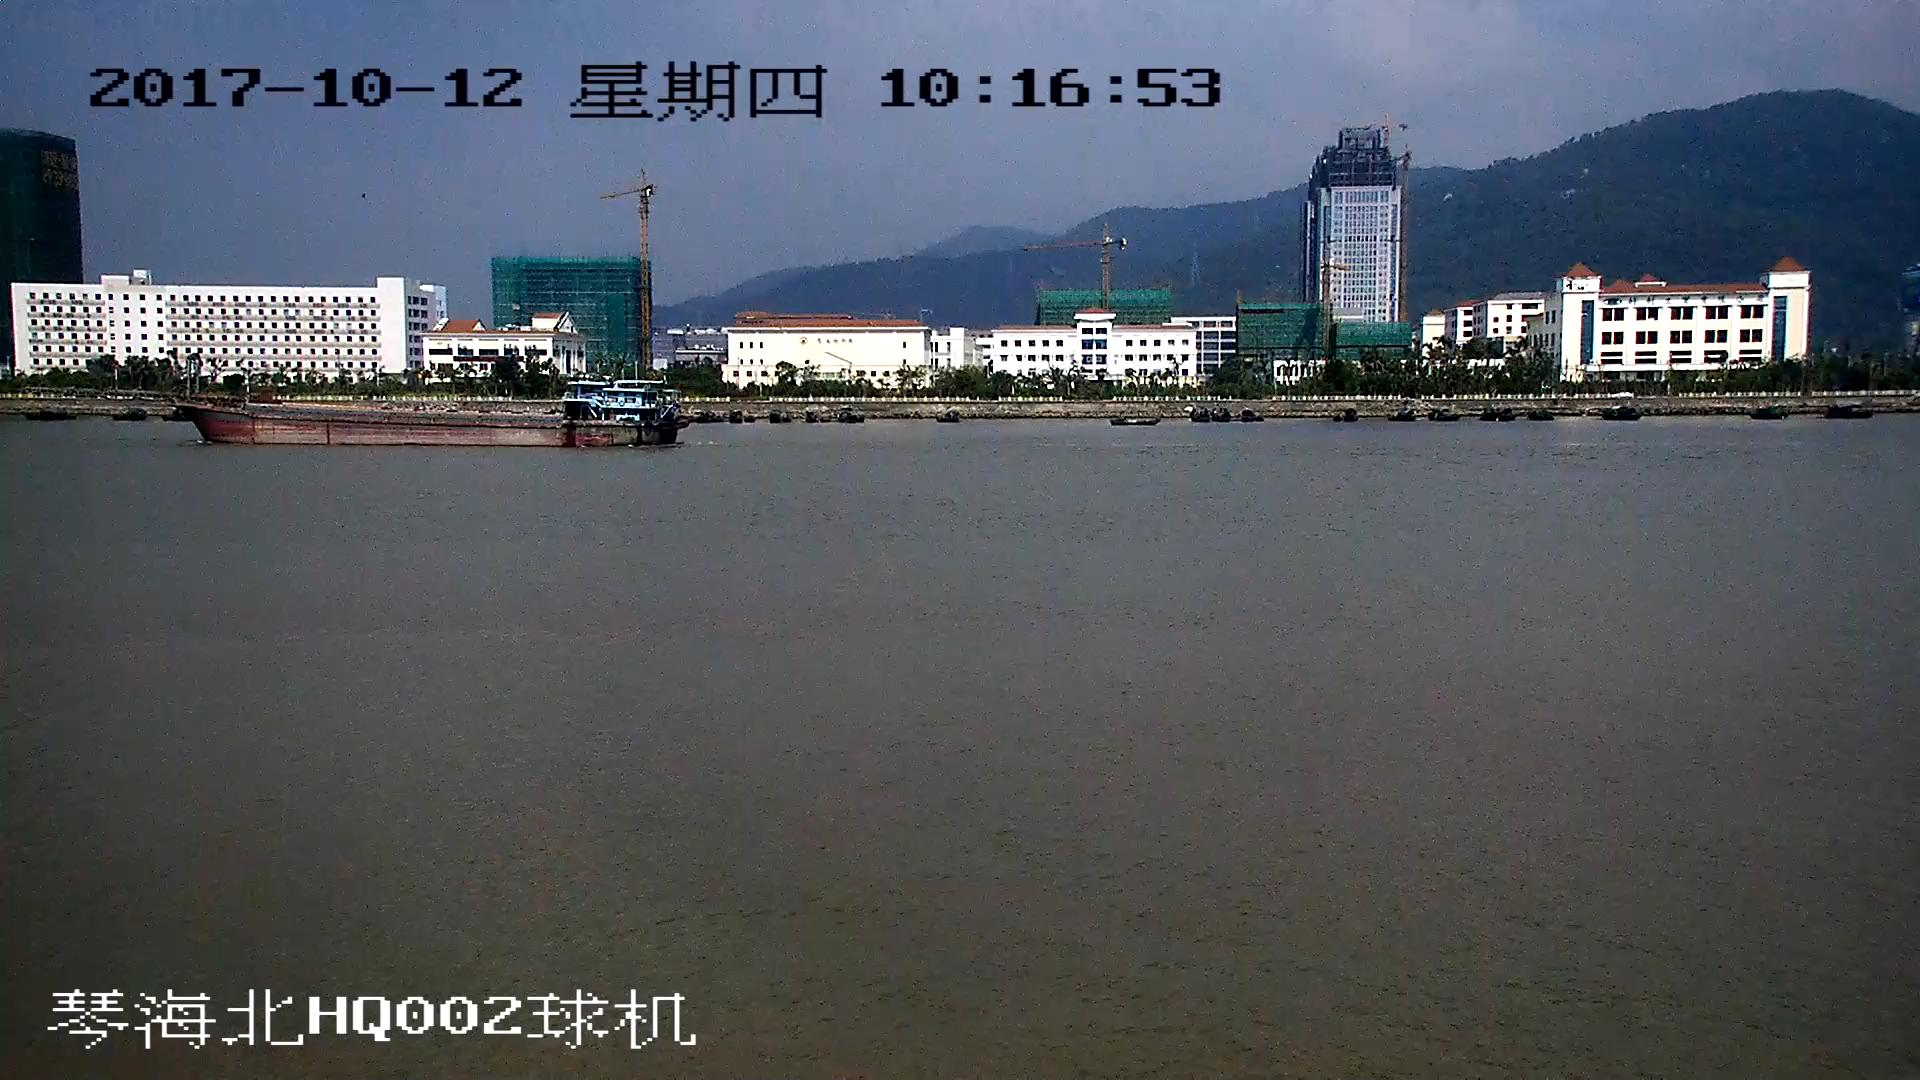bulk cargo carrier: (175, 380, 686, 447)
